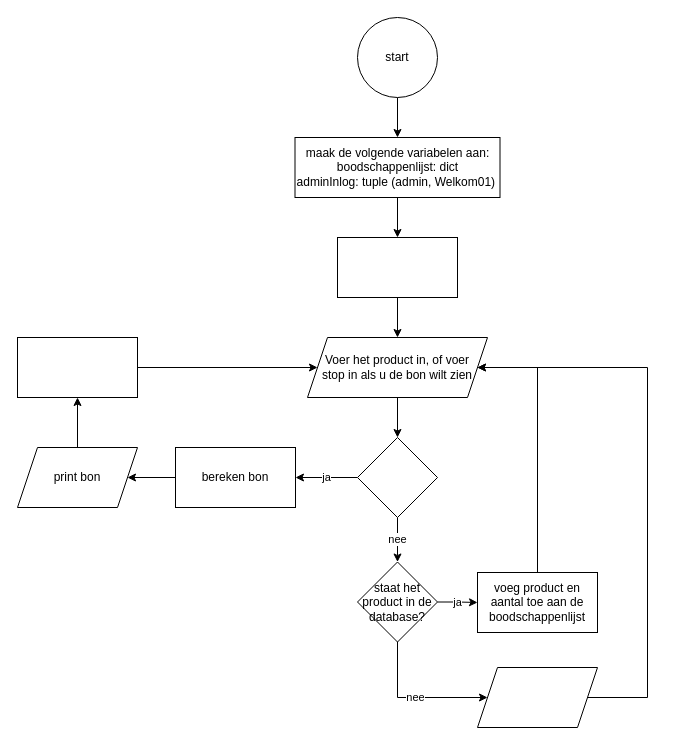
The diagram is 673 pixels wide and 745 high, and some of its shapes have lost their labels. Here are the shapes that lost their labels. From the top down, the centre of each, then its label:
At point 397,267: "laad de database kassa.csv in".
At point 77,367: "reset boodschappenlijst".
At point 397,477: "heeft de gebruiker stop getypt?".
At point 537,697: "output: Product komt niet voor, probeer opnieuw".
